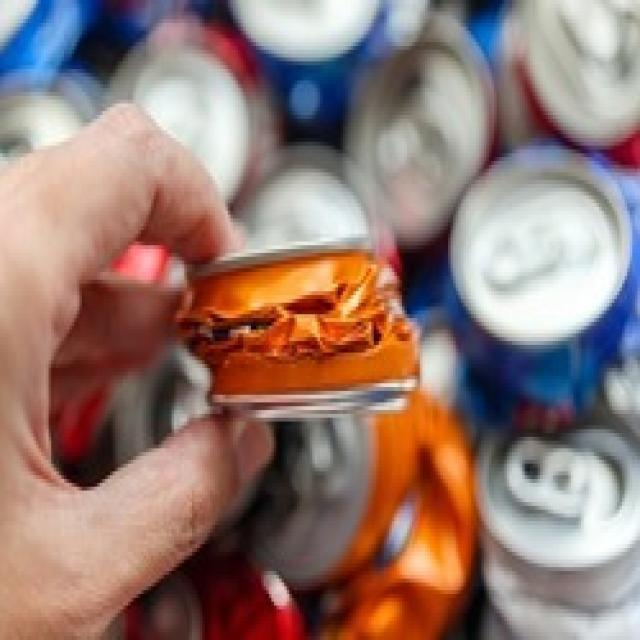metal-can: (174, 233, 418, 418)
